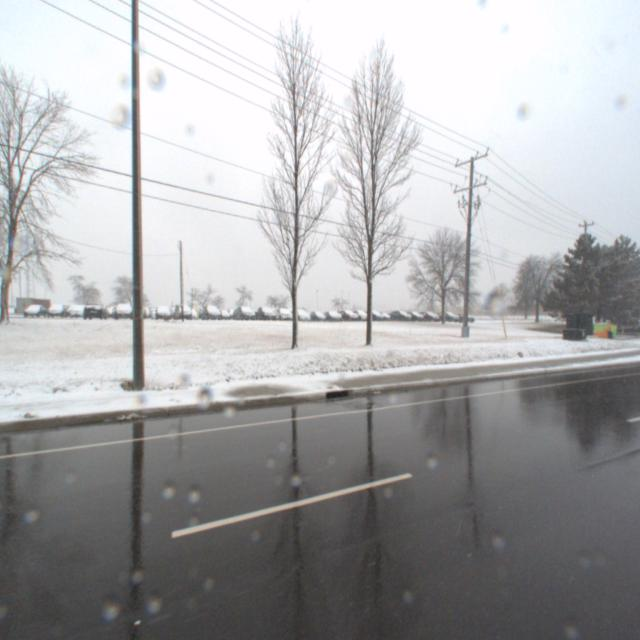Car: (198, 298, 220, 318), (231, 301, 255, 319), (333, 306, 358, 322), (270, 302, 292, 320), (252, 302, 274, 319), (319, 305, 341, 321)
